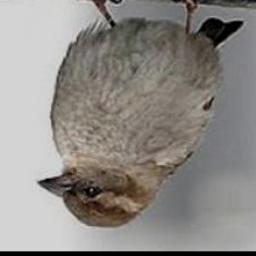Sparrow: (37, 0, 246, 229)
